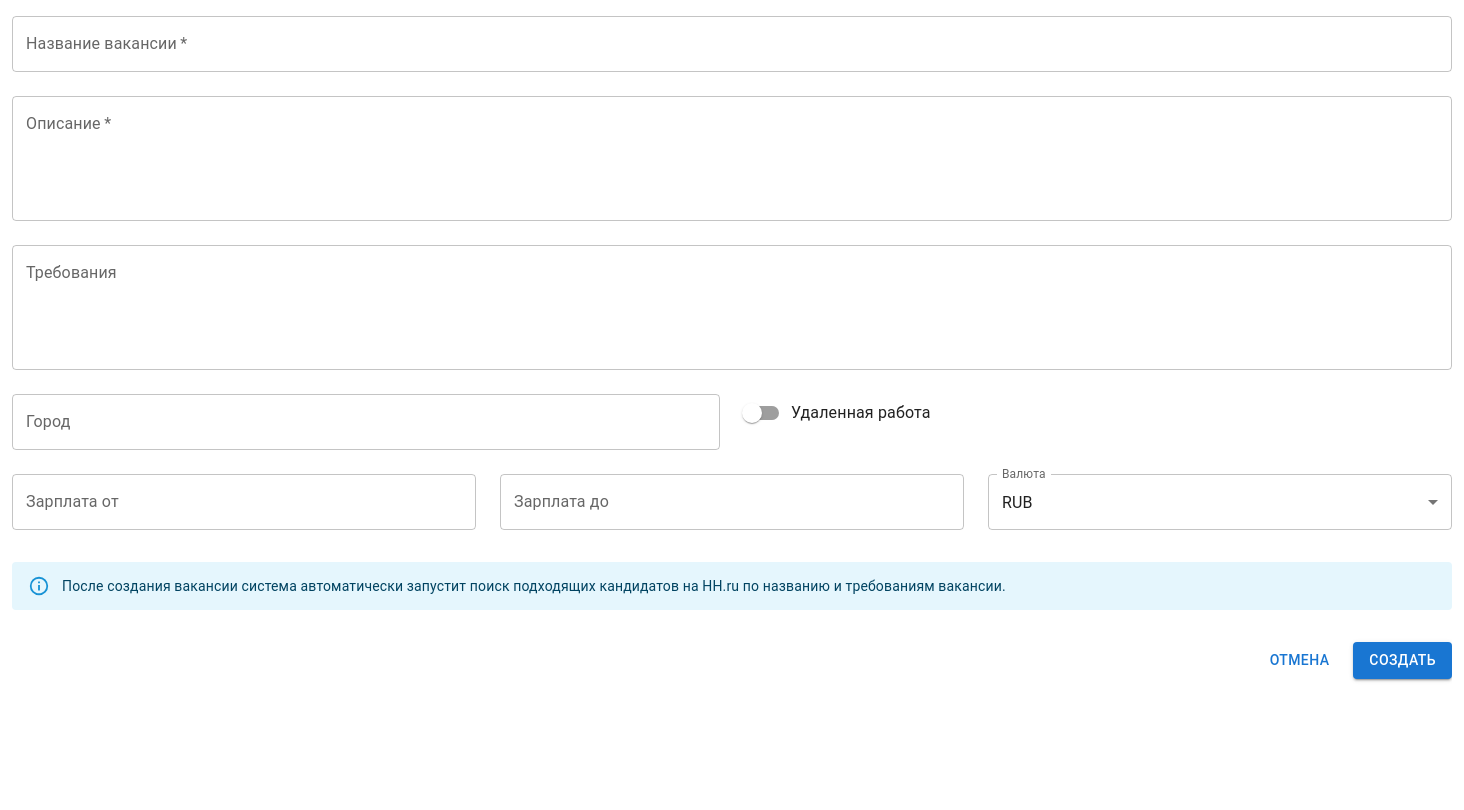
Test: VacancyForm › handles form submission error
In the field labelled "Название вакансии *": (732, 44) [12, 16, 1452, 72], type "Test"
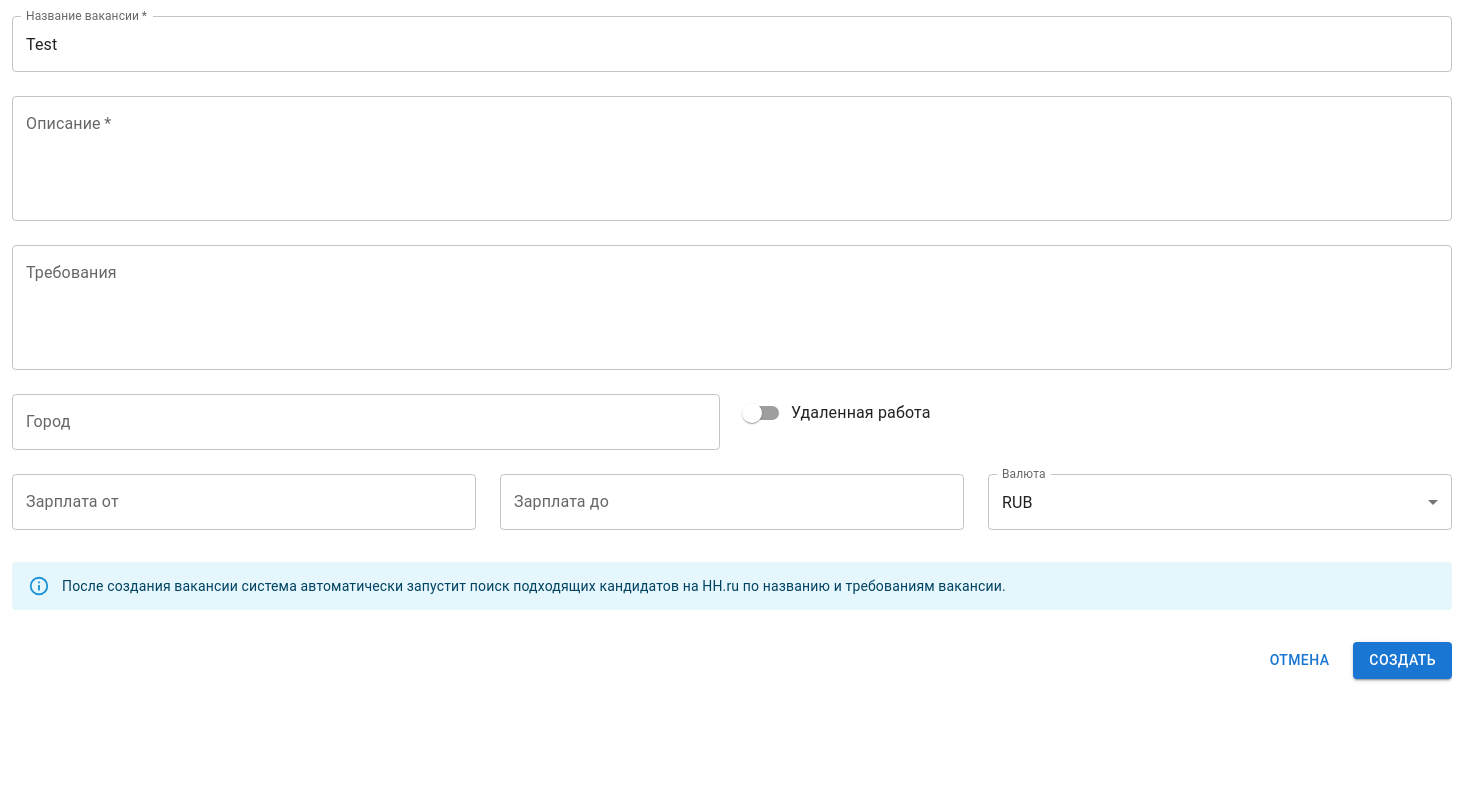
In the text box labelled "Описание *": (732, 158) [26, 112, 1438, 204], type "Test description"
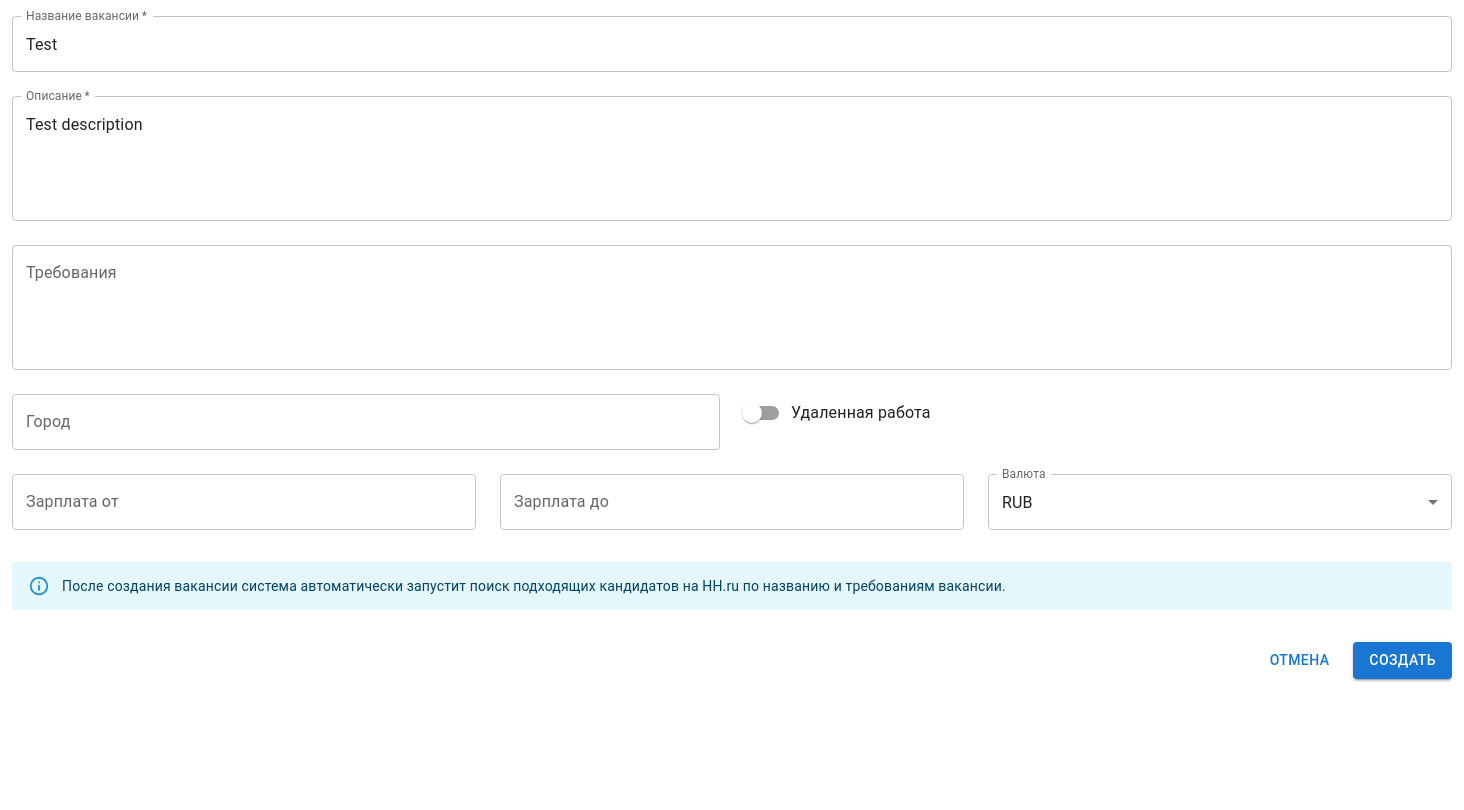
Use getAllByLabelText and select the first one (main "Город" field, not "Город для поиска")
In the field labelled "Город": (366, 422) [12, 394, 720, 450], type "Москва"
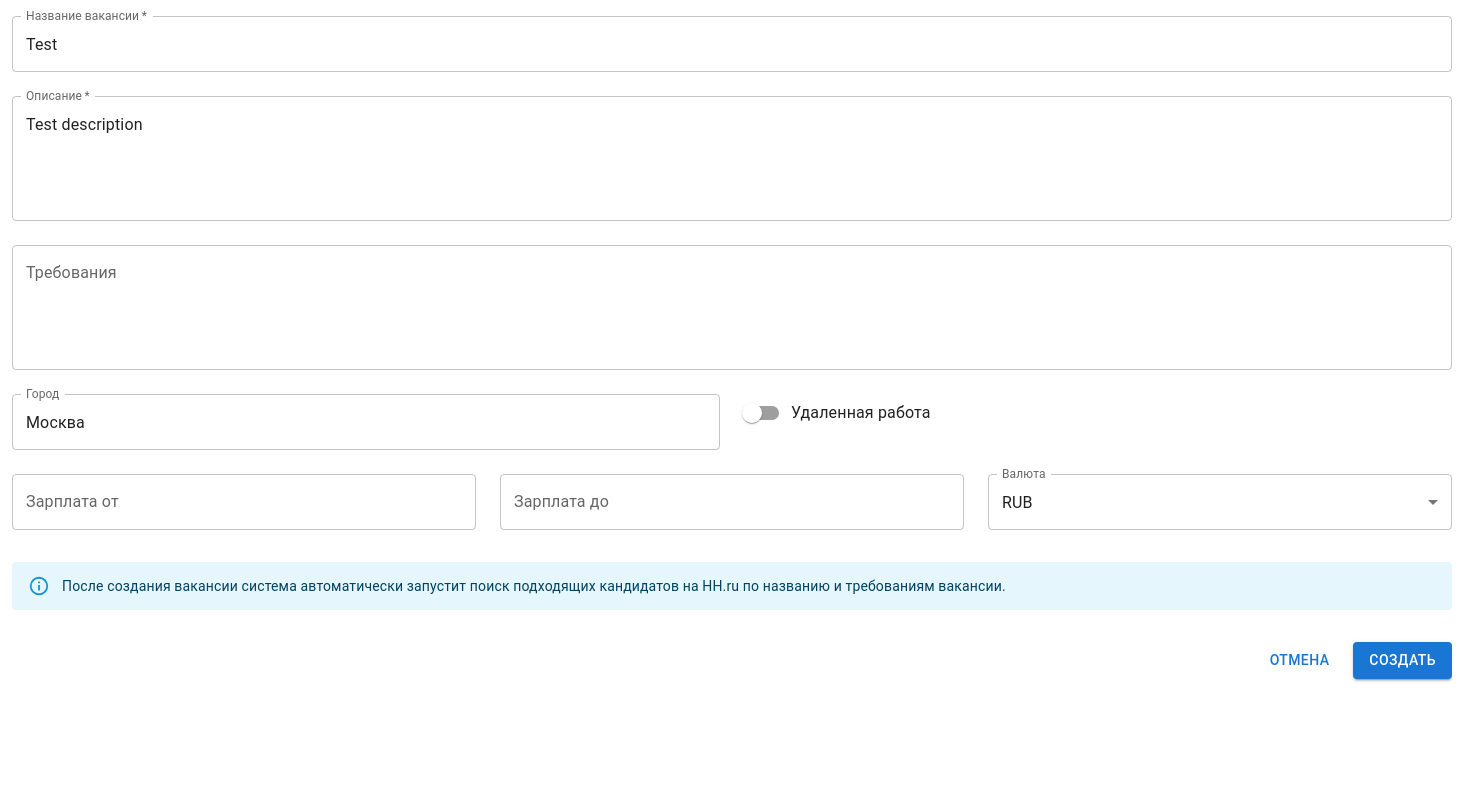
Click the button "Создать": click(1403, 660) [1353, 642, 1452, 678]
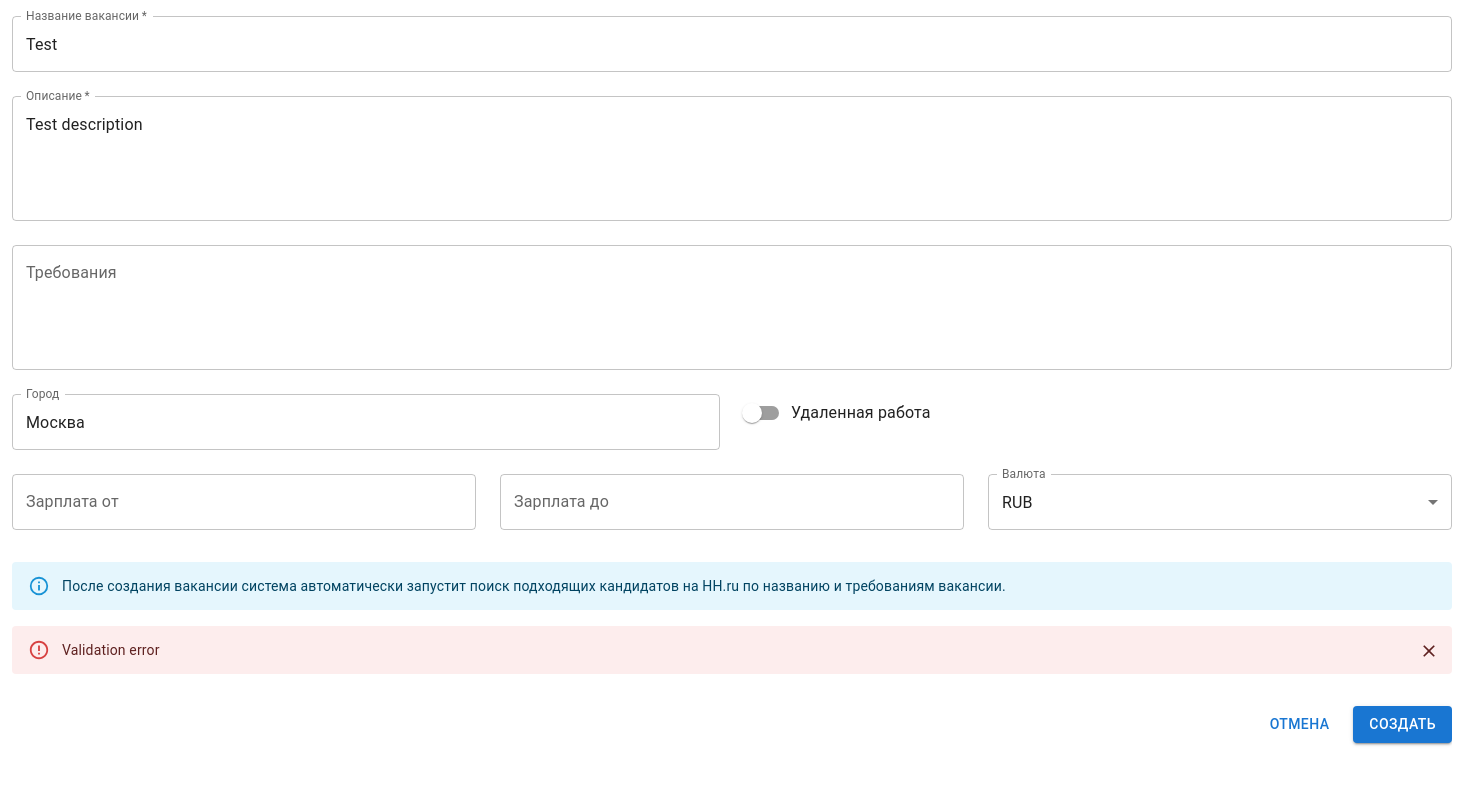
Result: the text "ошибка при сохранении" is shown at [62, 642, 160, 658]
